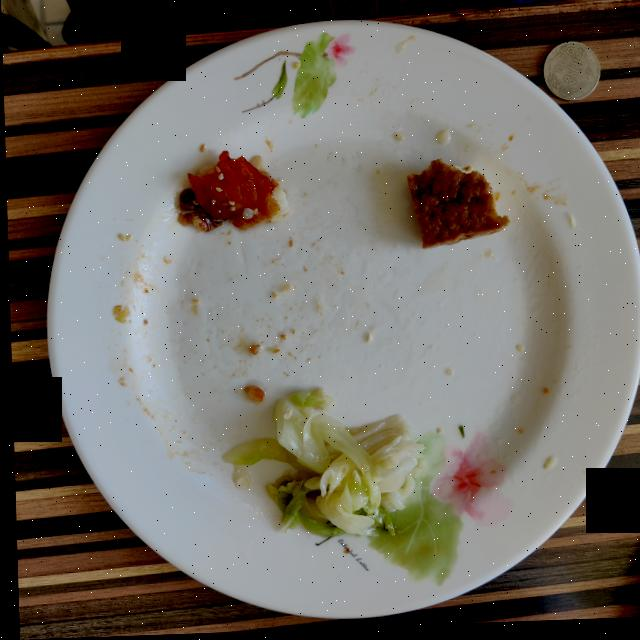Kabayaki sea bream fillet: (176, 152, 287, 234)
cabbage: (220, 392, 423, 540)
coin: (542, 46, 599, 105)
egg tofu: (406, 163, 507, 252)
